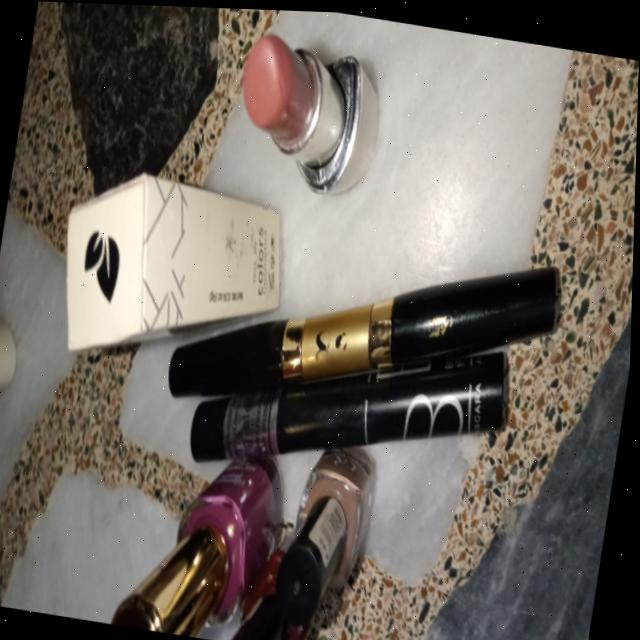lip stick: (199, 13, 402, 223)
mascara: (158, 194, 581, 515)
nail polish: (103, 400, 390, 640)
